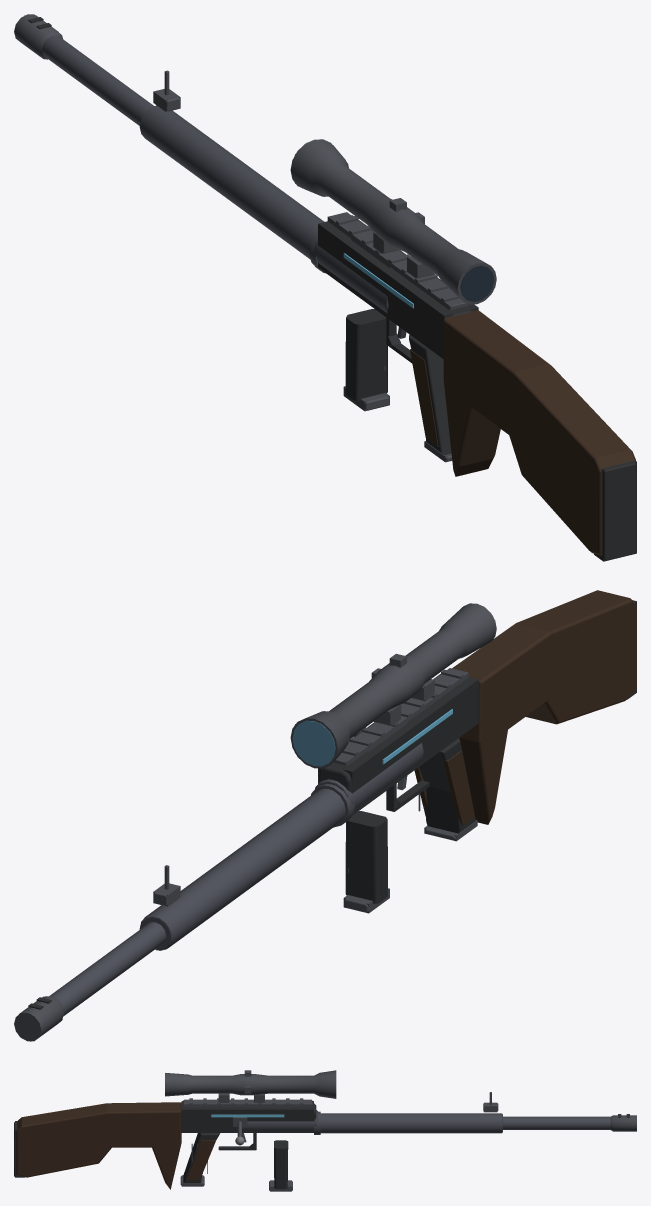
The model's file is rail.glb.
The picture shows the model from 3 angles, top to bottom: view 1: azimuth 30°, elevation 25°; view 2: azimuth 150°, elevation 25°; view 3: azimuth 270°, elevation 25°; orthographic projection. The views are drawn at different scales.
Parts seen in each view (by area): view 1: L0, L1; view 2: L0, L1; view 3: L0, L1.
Boxes of the visible parts, bbox=[...] form: L0: bbox=[14, 14, 636, 560]; L1: bbox=[15, 15, 636, 561]; L0: bbox=[14, 590, 636, 1041]; L1: bbox=[14, 600, 636, 1041]; L0: bbox=[14, 1070, 636, 1190]; L1: bbox=[15, 1070, 636, 1191].
Size of the model in its own units: 0.1095 by 0.2335 by 1.13.
